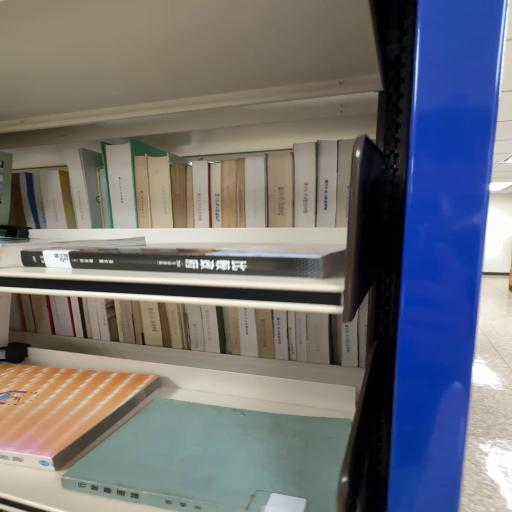flat: (63, 399, 350, 512), (22, 245, 346, 279)
